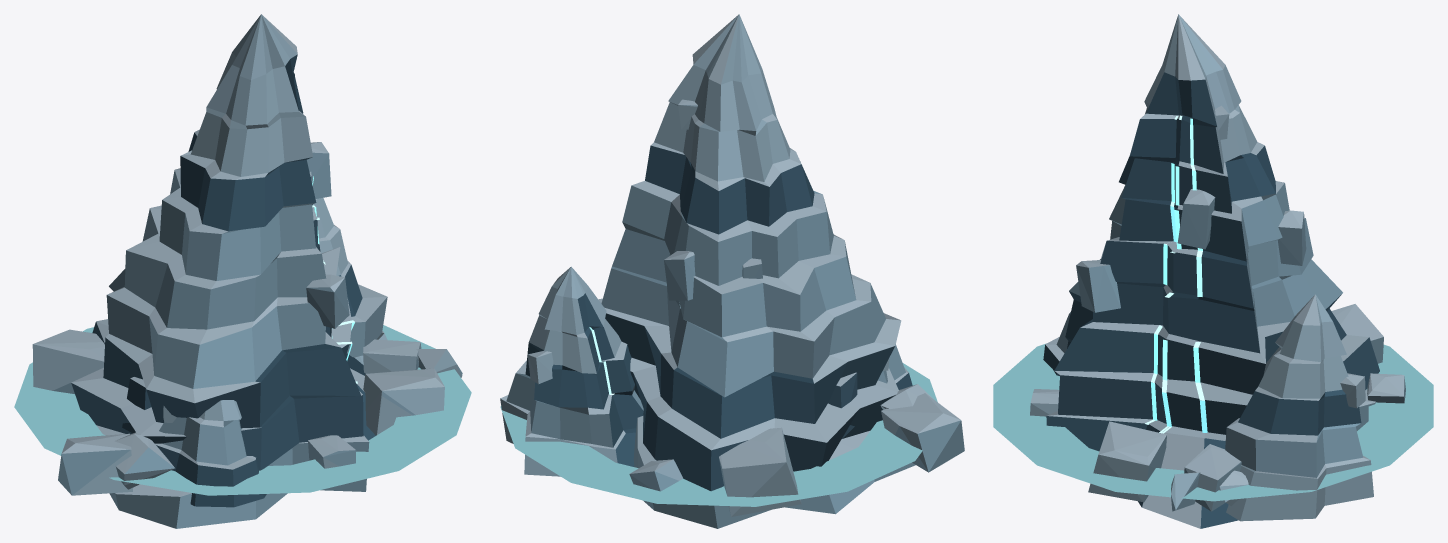
The model's file is iceberg_a.glb.
The picture shows the model from 3 angles, left to right: view 1: azimuth 30°, elevation 25°; view 2: azimuth 150°, elevation 25°; view 3: azimuth 270°, elevation 25°; orthographic projection. The views are drawn at different scales.
Parts seen in each view (by area): view 1: iceberg_a; view 2: iceberg_a; view 3: iceberg_a.
Boxes of the visible parts, x1=… form: iceberg_a: x1=14, y1=14, x2=471, y2=528; iceberg_a: x1=500, y1=14, x2=964, y2=528; iceberg_a: x1=993, y1=14, x2=1433, y2=528.
Bounding box in the file's own units: 21.27 × 21.68 × 19.89.
